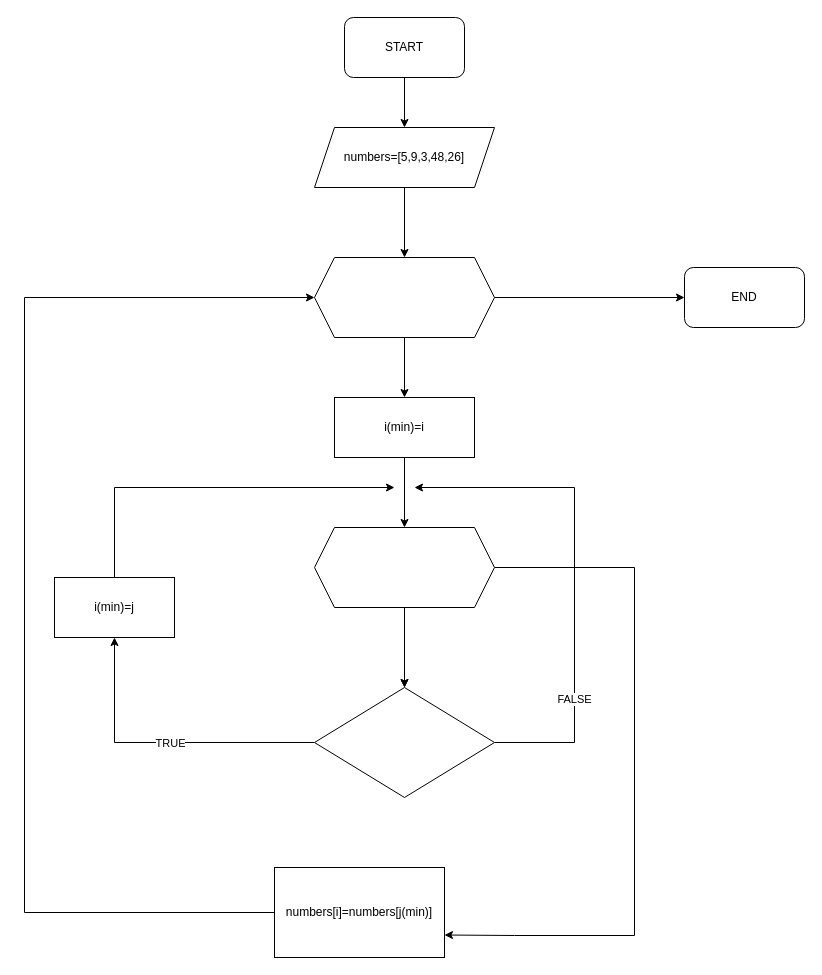
Image size: 822x975. Some labels were removed from this diagram. The shapes that lost their labels are listed below. From the top down, each one's centre as x and y in pixels, then its label:
(x=404, y=297): i=0;i<numbers.length;i++; n-2
(x=404, y=567): j=i+1;n-1
(x=404, y=742): numbers[j]<numbers[i(min)]
